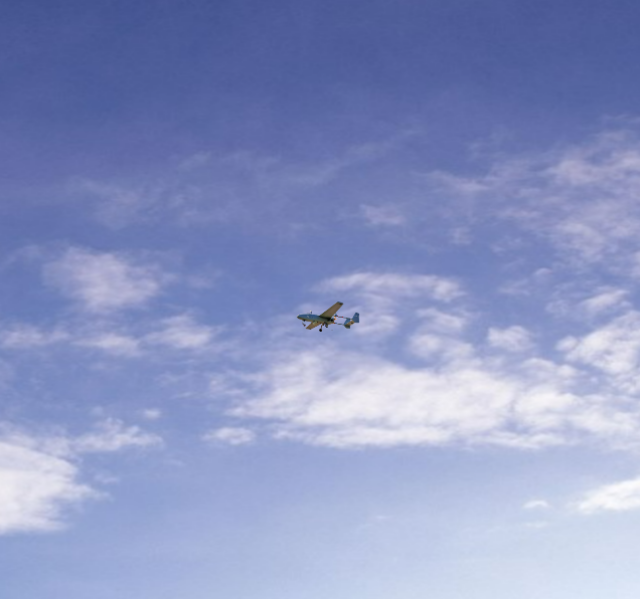military drone: (296, 300, 359, 332)
